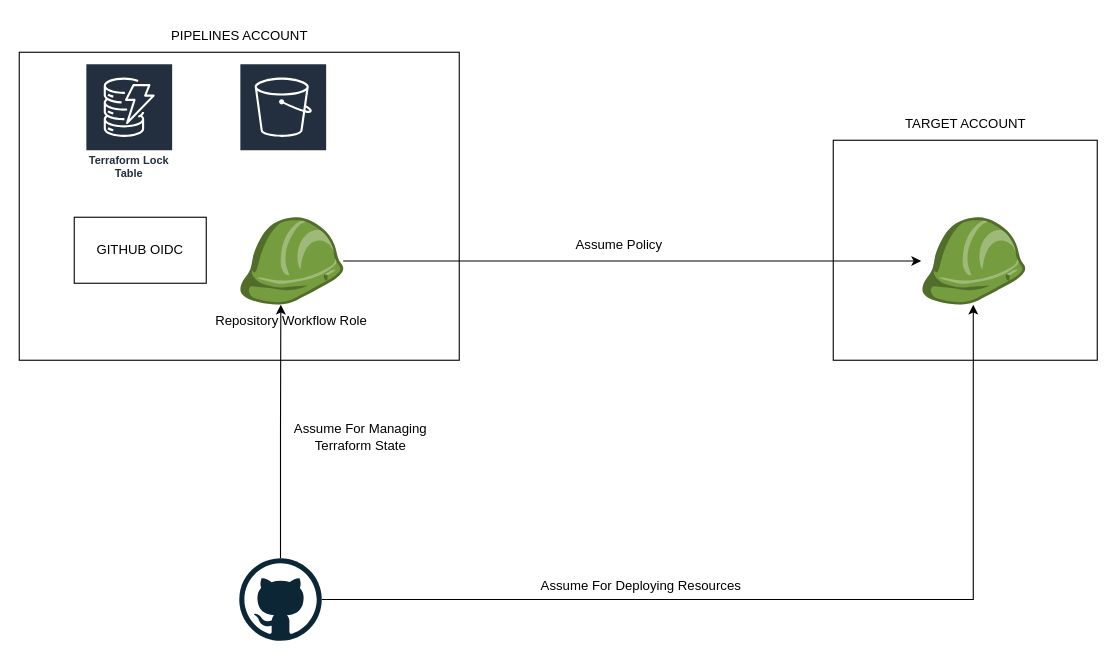
The diagram is 1117 pixels wide and 660 high, and some of its shapes have lost their labels. Each missing label, with the box of its shape:
Deployment role: (920, 216, 1025, 305)
Terraform State: (238, 62, 327, 173)
